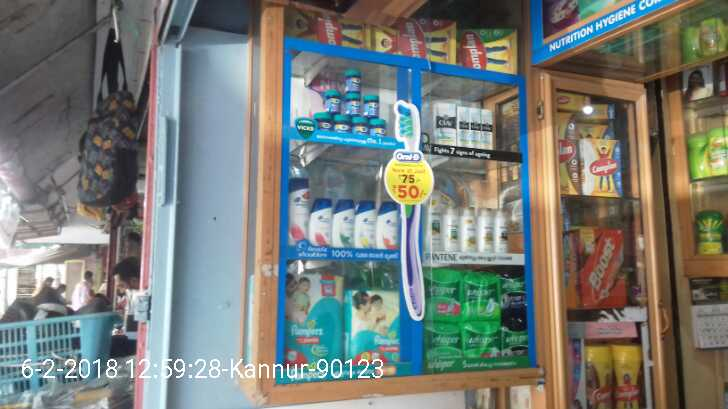vicks: (313, 68, 393, 143)
